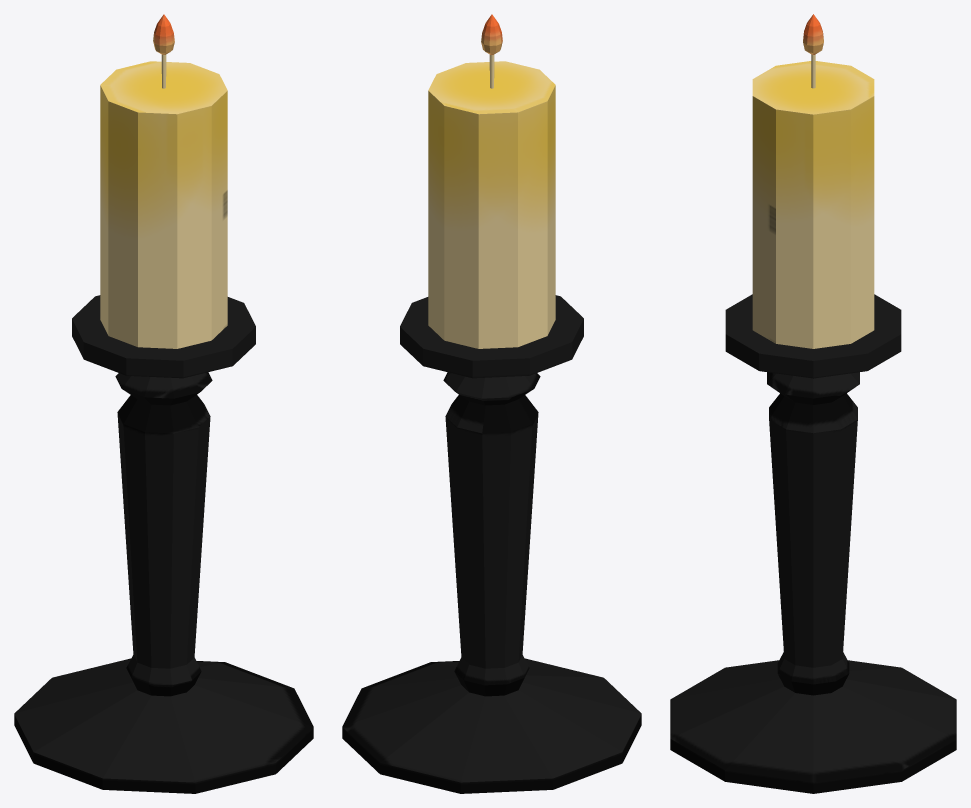
Rendered from Candle5_Model.fbx.
3 views of the same model, side by side, from view 1: azimuth 30°, elevation 25°; view 2: azimuth 150°, elevation 25°; view 3: azimuth 270°, elevation 25° (orthographic).
Visible parts, largest first — view 1: Candle5; view 2: Candle5; view 3: Candle5.
Part boxes in pixels (bbox=[...]): Candle5: bbox=[14, 14, 313, 793]; Candle5: bbox=[342, 14, 641, 793]; Candle5: bbox=[670, 14, 956, 793].
Size of the model in its own units: 9.67 by 25.4 by 9.19.
